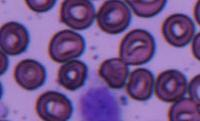L: (77, 85, 121, 121)
